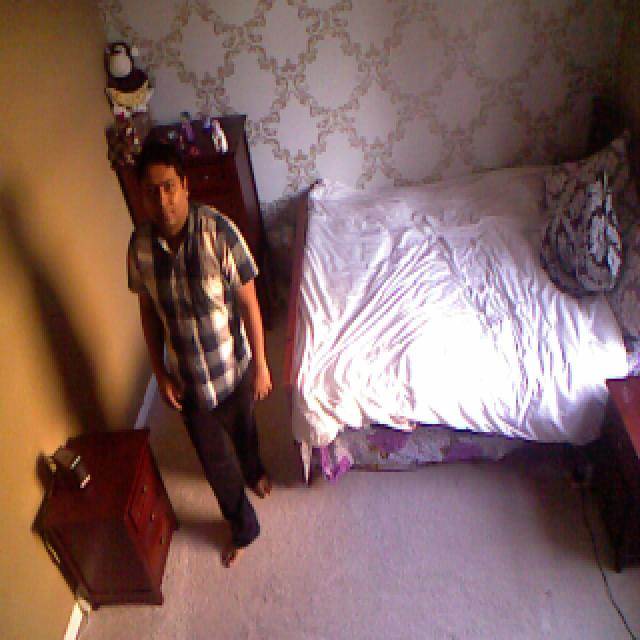standing: (119, 142, 279, 568)
